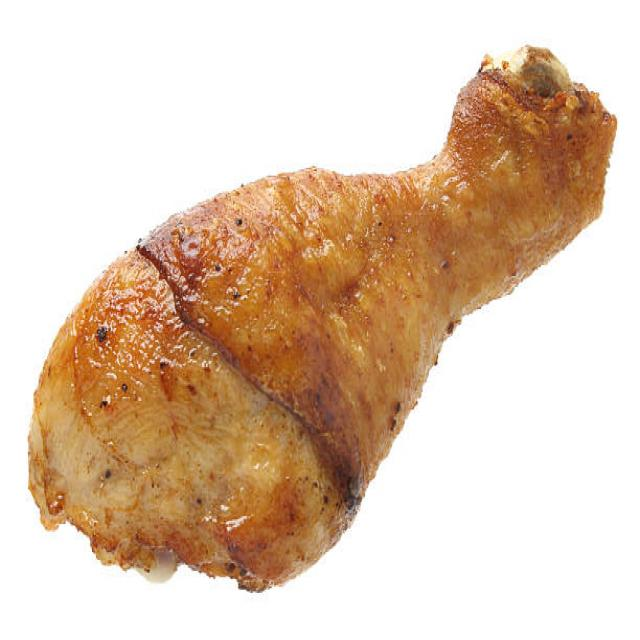chicken wing: (20, 39, 622, 594)
